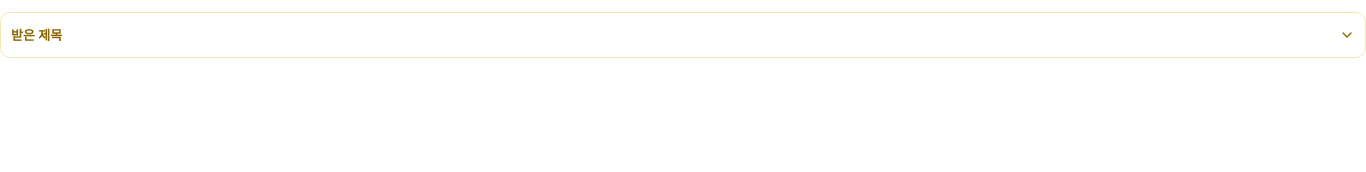
Test case: FE-02 FR-04: 답변의 출처·조회 시각/기준일·조항 글자 › 조항 글자는 화면이 짓지 않는다: 다른 조항이 오면 그 글자를, 오지 않으면 조항 줄을 그리지 않는다
The image size is (1366, 172).
Later steps or results of the test are not shown.
Click the button "받은 제목" at (37, 34), box x1=11 y1=13 x2=1355 y2=57
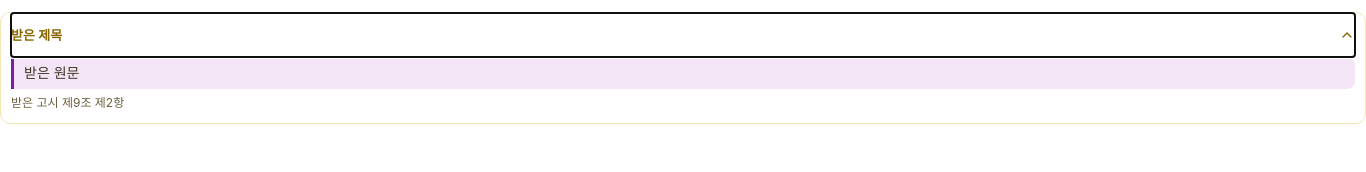
Check: the text "받은 고시 제9조 제2항" is shown, box x1=11 y1=95 x2=124 y2=110
